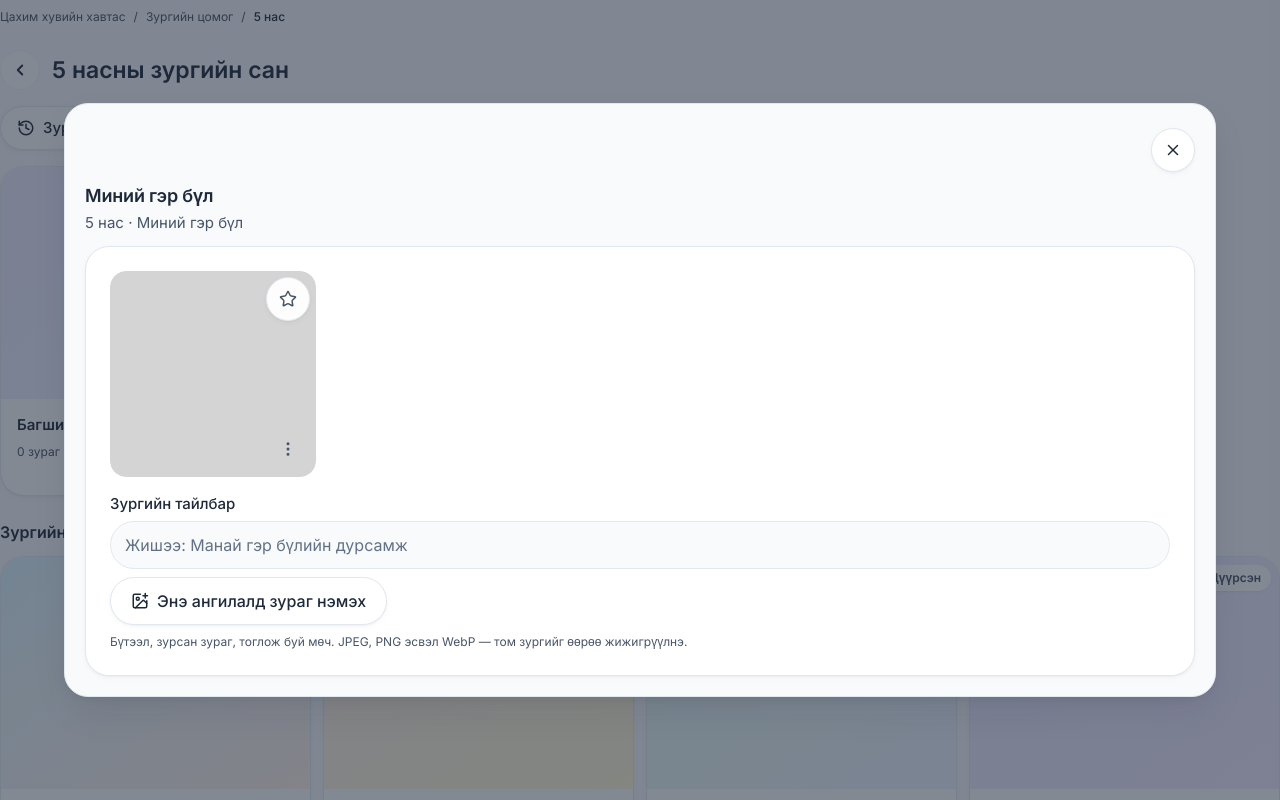
Scenario: the per-photo menu › confirms before deleting, then removes it
Click the button named "Манай гэр бүл үйлдэл": (288, 449) [266,427,310,471]
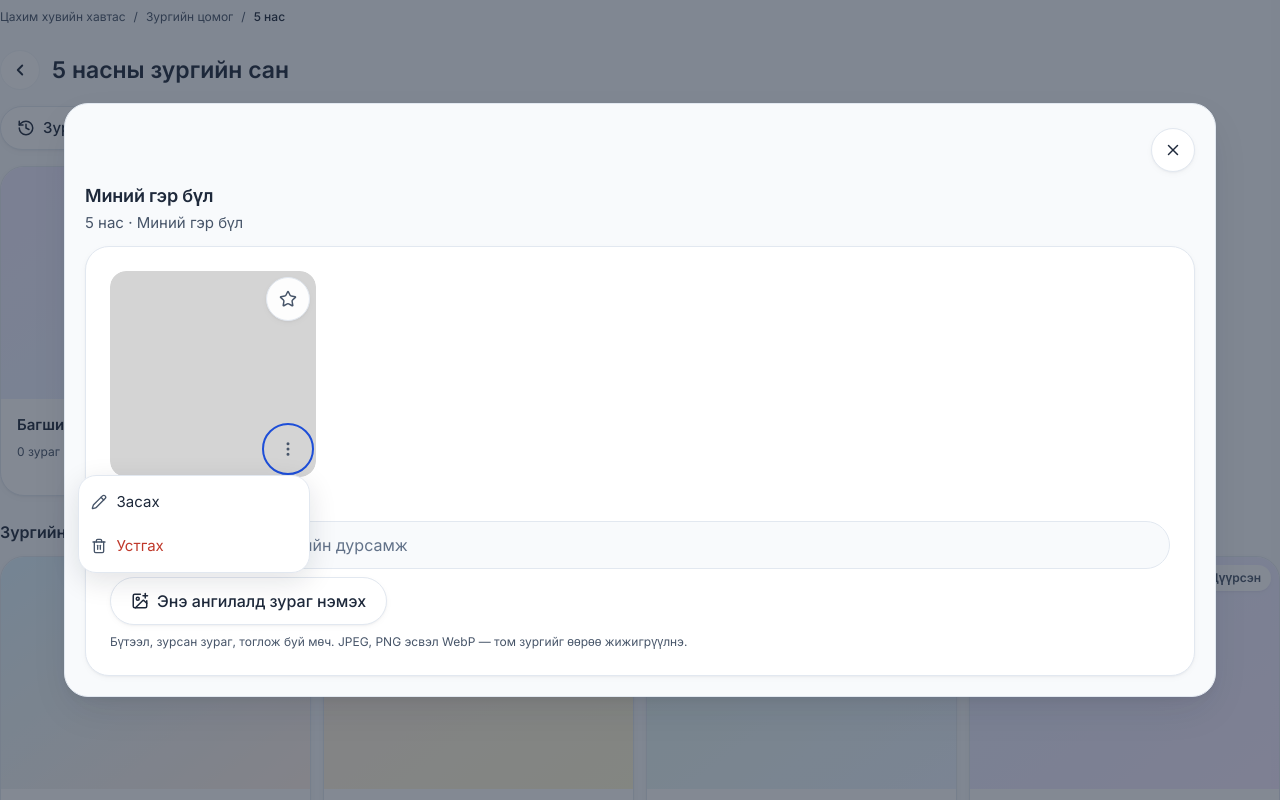
Click the menu item "Устгах": (194, 546) [79,524,309,568]
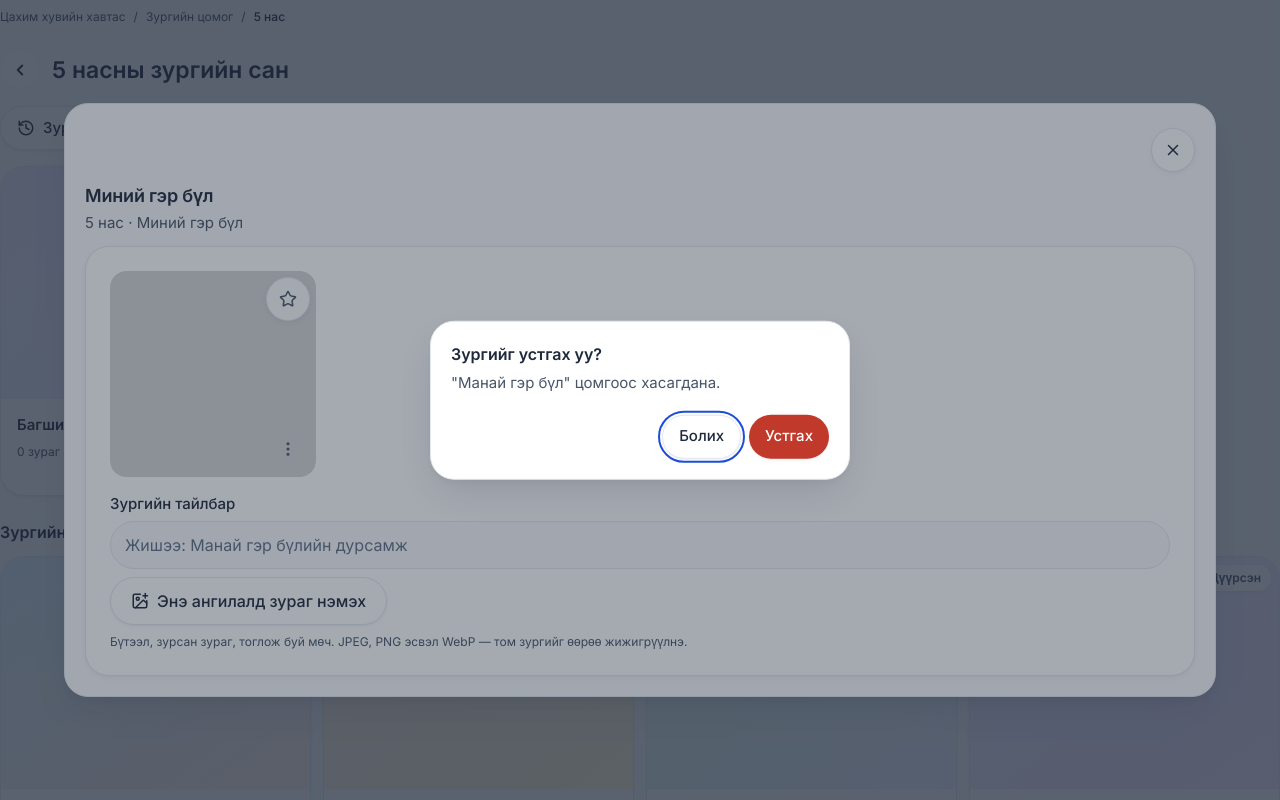
Check: the dialog "Зургийг устгах уу?" is shown, box [430,321,850,479]
Click the button "Устгах": (789, 436) [749,414,829,458]
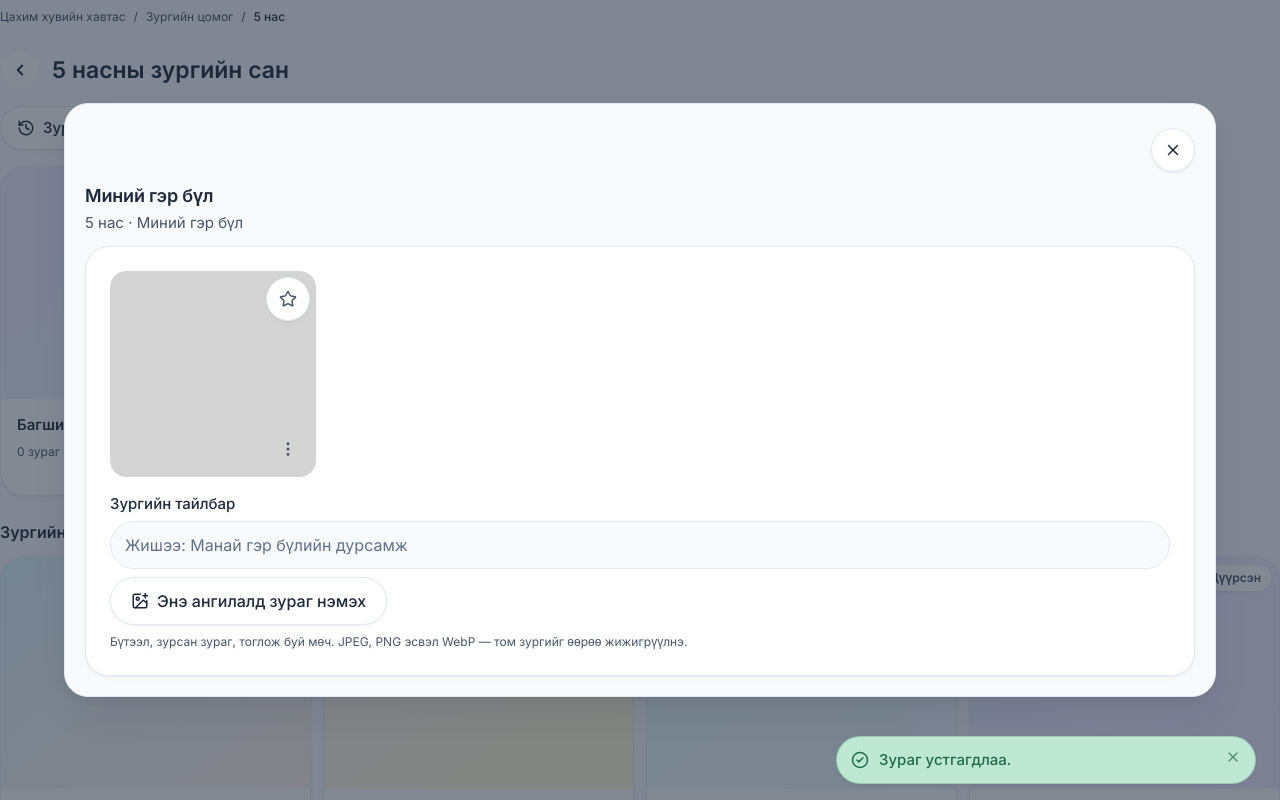
Check: the text "Зураг устгагдлаа." is shown, box [879,750,1011,768]
